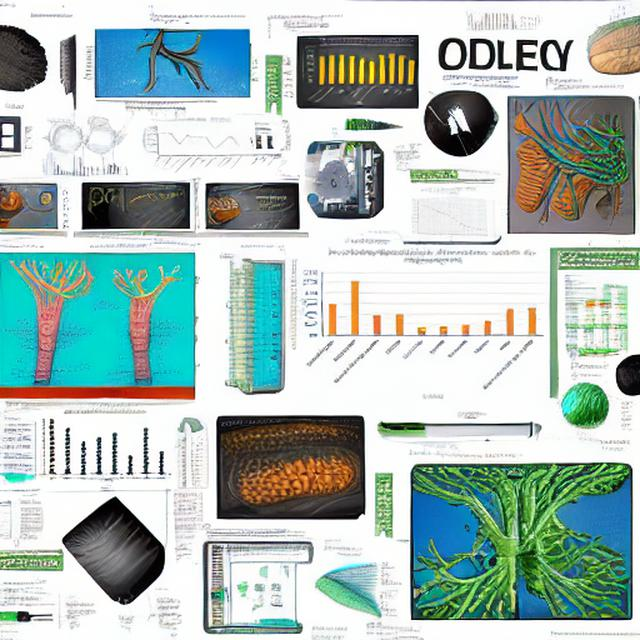Graph: (288, 245, 546, 405), (36, 408, 173, 489), (300, 37, 419, 107), (140, 116, 246, 180), (409, 188, 489, 240), (113, 183, 190, 229), (463, 3, 517, 35), (44, 151, 94, 180)
